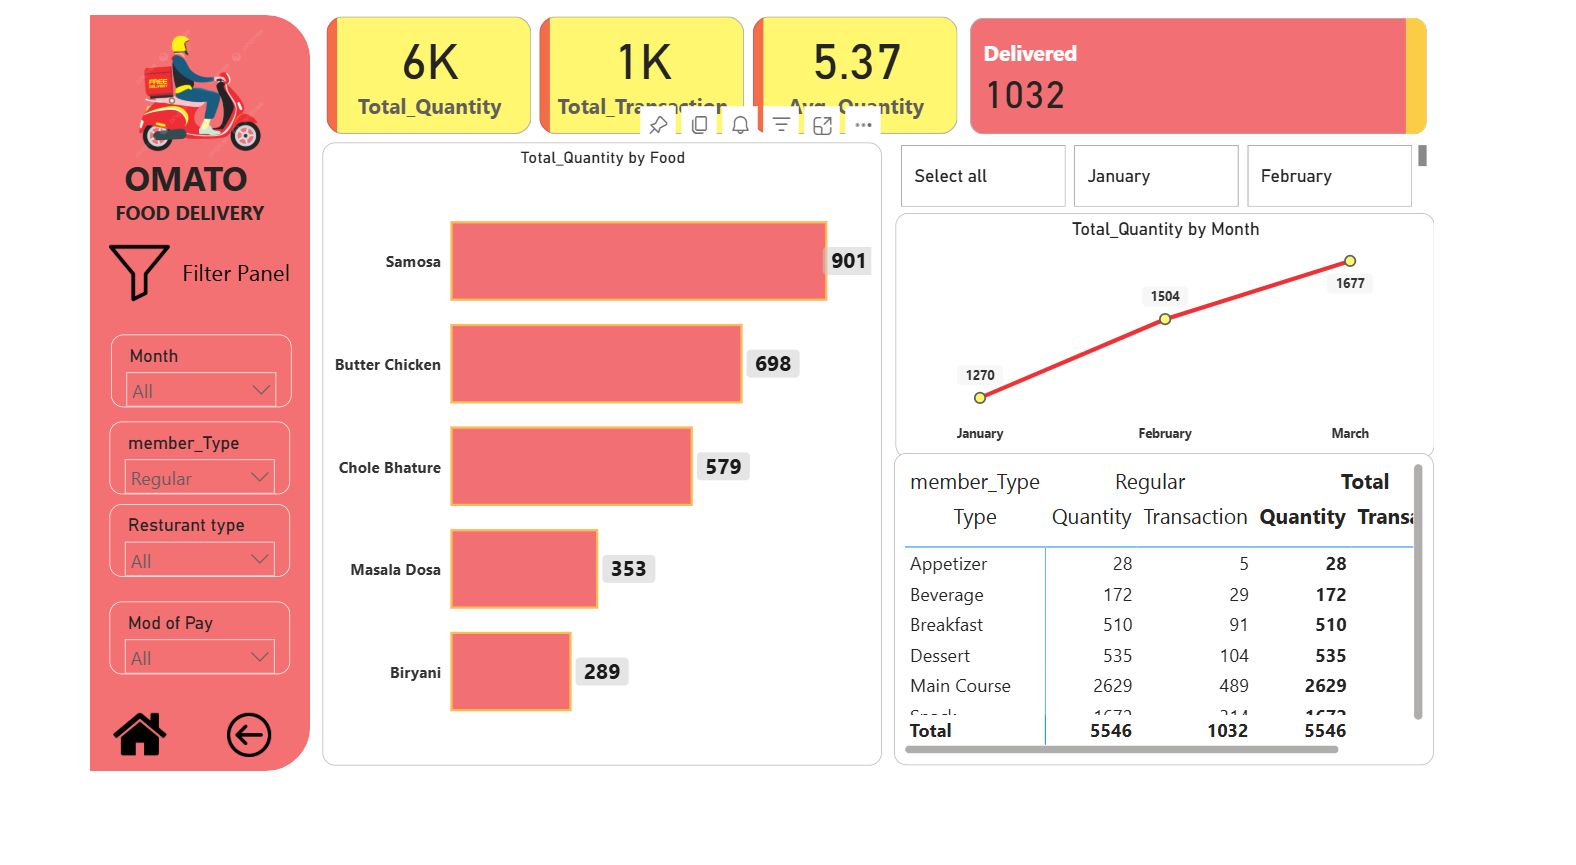

This screenshot's page, from the dashboard's own definition file:
{"tool":"powerbi","page":{"name":"Status Page","canvas":[1280,720],"ordinal":1},"visuals":[{"type":"shape","box":[0,0,209.8,720],"z":0},{"type":"cardVisual","fields":{"Data":["Sales Data (2).Total_Quantity","Sales Data (2).Total_Transaction","Sales Data (2).Avg. Quantity"]},"box":[220.3,0,612.9,125.9],"z":1000},{"type":"image","box":[0,0,209.8,149.3],"z":2000},{"type":"image","box":[11.3,211.7,71.8,68],"z":3000},{"type":"slicer","fields":{"Values":["Sales Data (2).orderDate.Variation.Date Hierarchy.Month"]},"box":[19.9,304.8,172.3,69.6],"z":4000},{"type":"slicer","fields":{"Values":["Customer Details.member_Type"]},"box":[18.2,387.6,172.3,69.6],"z":5000},{"type":"slicer","fields":{"Values":["Resturant_Details.Resturant_type"]},"box":[18.2,465.5,172.3,69.6],"z":6000},{"type":"slicer","fields":{"Values":["Sales Data (2).payment_method"]},"box":[18.2,558.2,172.3,69.6],"z":7000},{"type":"image","box":[13.3,654.3,69.6,61.3],"z":8000},{"type":"textbox","box":[83.2,224.9,120.9,41.6],"z":9000},{"type":"textbox","box":[13.2,126.6,164.4,79.4],"z":10000},{"type":"image","box":[113.4,653.9,77.5,62.4],"z":11000},{"type":"clusteredBarChart","fields":{"Y":["Sales Data (2).Total_Quantity"],"Category":["Food_Details.Food"]},"box":[221.1,120.9,532.9,593.4],"z":12000},{"type":"cardVisual","fields":{"Data":["Sales Data (2).Delivered"]},"box":[833.4,1.9,446,124.7],"z":13000},{"type":"lineChart","fields":{"Category":["Sales Data (2).orderDate.Variation.Date Hierarchy.Month"],"Y":["Sales Data (2).Total_Quantity"]},"box":[767,188.8,513.5,233.6],"z":14000},{"type":"pivotTable","fields":{"Rows":["Food_Details.Type"],"Columns":["Customer Details.member_Type"],"Values":["Sales Data (2).Total_Quantity","Sales Data (2).Total_Transaction"]},"box":[765,417,514,297],"z":15000},{"type":"advancedSlicerVisual","fields":{"Values":["Sales Data (2).orderDate.Variation.Date Hierarchy.Month"]},"box":[767,119.3,511.9,69.6],"z":16000}]}

Visuals, with their boxes on the page's 1280x720 design canvas (x1, y1, x2, y2). These are canvas units, not pixel positions in the 1576x865 screenshot, which may show the page scaled, cropped or inside an application window:
shape: x1=0, y1=0, x2=210, y2=720
cardVisual - Sales Data (2).Total_Quantity x Sales Data (2).Total_Transaction: x1=220, y1=0, x2=833, y2=126
image: x1=0, y1=0, x2=210, y2=149
image: x1=11, y1=212, x2=83, y2=280
slicer - Sales Data (2).orderDate.Variation.Date Hierarchy.Month: x1=20, y1=305, x2=192, y2=374
slicer - Customer Details.member_Type: x1=18, y1=388, x2=190, y2=457
slicer - Resturant_Details.Resturant_type: x1=18, y1=466, x2=190, y2=535
slicer - Sales Data (2).payment_method: x1=18, y1=558, x2=190, y2=628
image: x1=13, y1=654, x2=83, y2=716
textbox: x1=83, y1=225, x2=204, y2=266
textbox: x1=13, y1=127, x2=178, y2=206
image: x1=113, y1=654, x2=191, y2=716
clusteredBarChart - Sales Data (2).Total_Quantity x Food_Details.Food: x1=221, y1=121, x2=754, y2=714
cardVisual - Sales Data (2).Delivered: x1=833, y1=2, x2=1279, y2=127
lineChart - Sales Data (2).orderDate.Variation.Date Hierarchy.Month x Sales Data (2).Total_Quantity: x1=767, y1=189, x2=1280, y2=422
pivotTable - Food_Details.Type x Customer Details.member_Type: x1=765, y1=417, x2=1279, y2=714
advancedSlicerVisual - Sales Data (2).orderDate.Variation.Date Hierarchy.Month: x1=767, y1=119, x2=1279, y2=189
